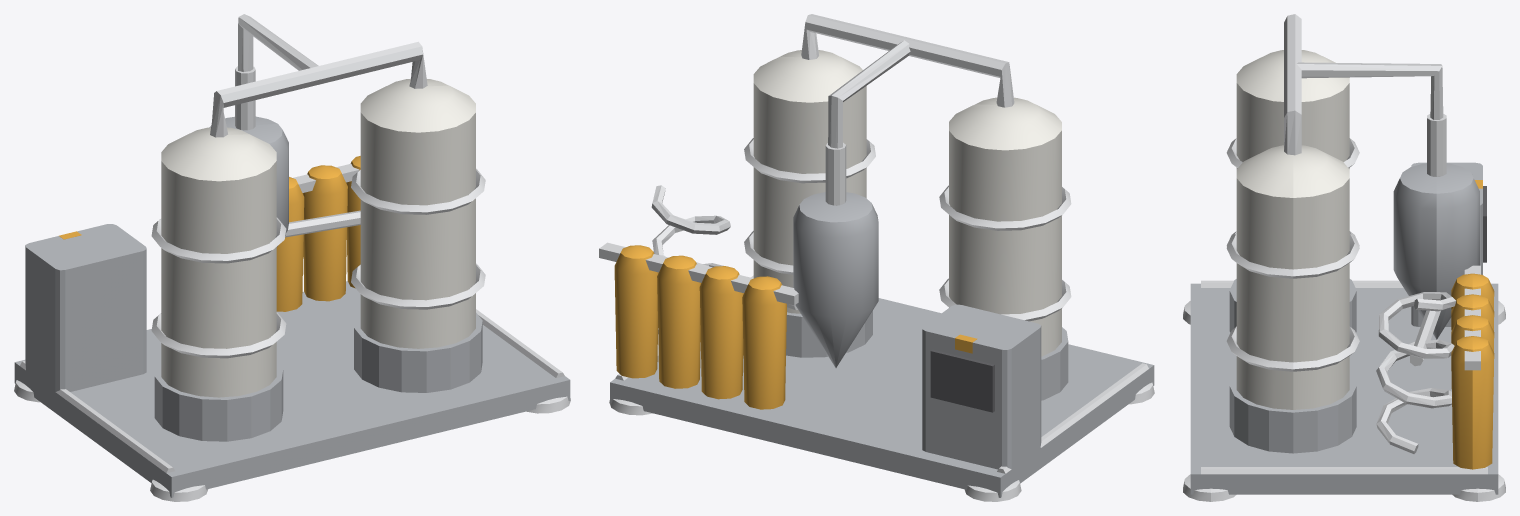
Rendered from oxygen-extraction-plan-002fb0ae.glb.
The picture shows the model from 3 angles, left to right: view 1: azimuth 30°, elevation 25°; view 2: azimuth 150°, elevation 25°; view 3: azimuth 270°, elevation 25°; orthographic projection. The views are drawn at different scales.
Parts seen in each view (by area): view 1: oxygen-extraction-plant; view 2: oxygen-extraction-plant; view 3: oxygen-extraction-plant.
Part boxes in pixels (box(x1,y1,x2,y2)): oxygen-extraction-plant: box(14, 14, 570, 501); oxygen-extraction-plant: box(599, 14, 1154, 501); oxygen-extraction-plant: box(1183, 14, 1505, 501).
Bounding box in the file's own units: 4.7 × 3.69 × 3.15.
